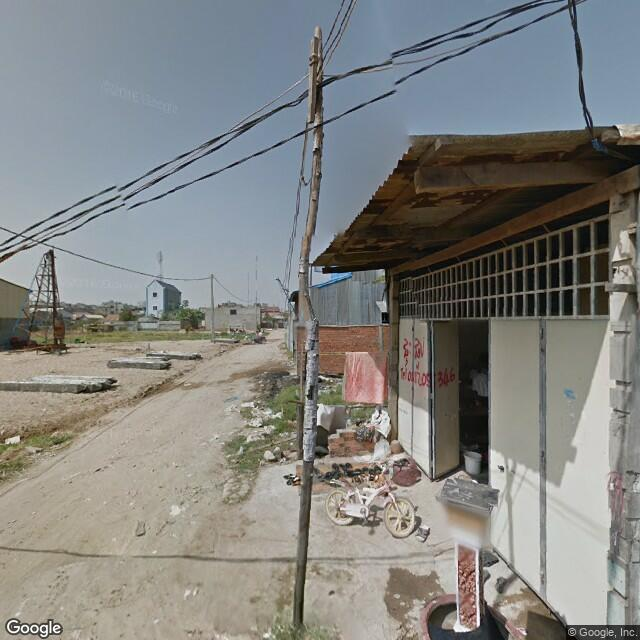litter: (24, 440, 42, 460), (240, 402, 260, 420), (132, 521, 148, 538), (3, 432, 20, 444), (263, 449, 279, 459)
